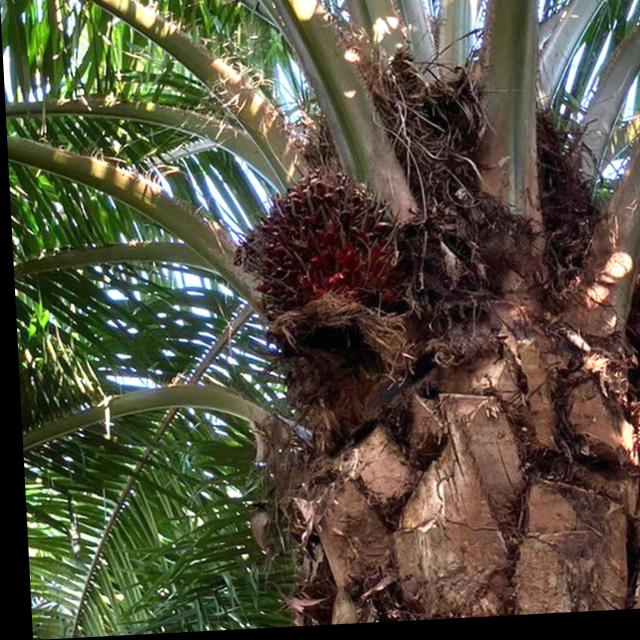ripe: (215, 146, 421, 348)
